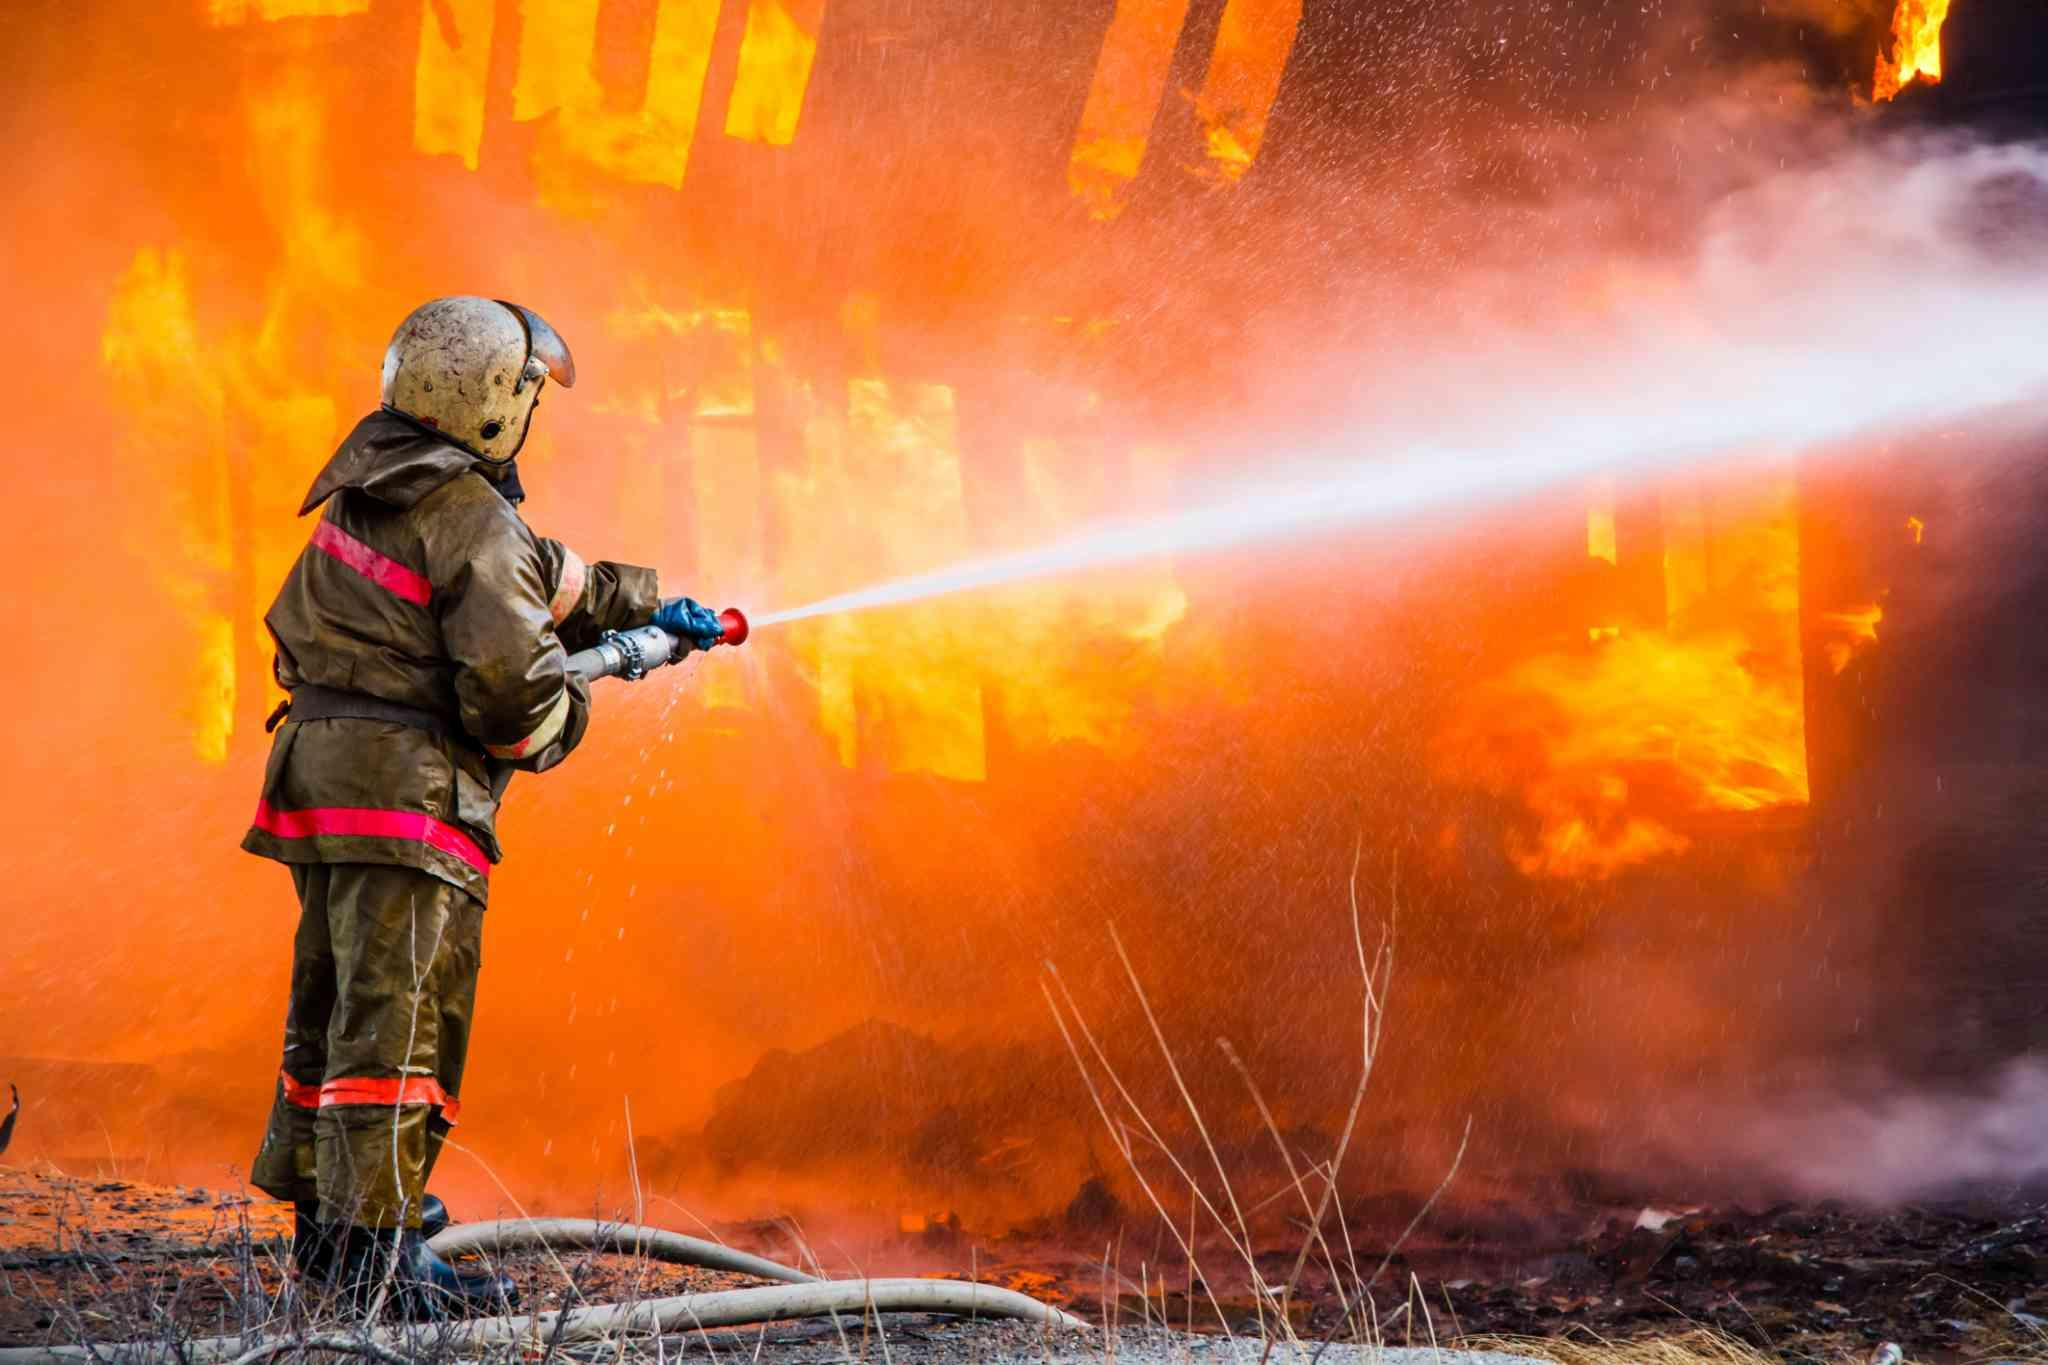Fire: (2, 15, 1963, 1155)
